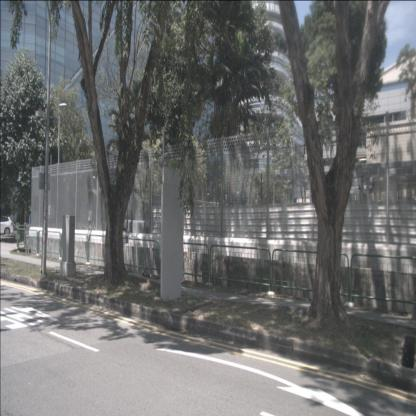vehicle-car: (0, 216, 14, 235)
